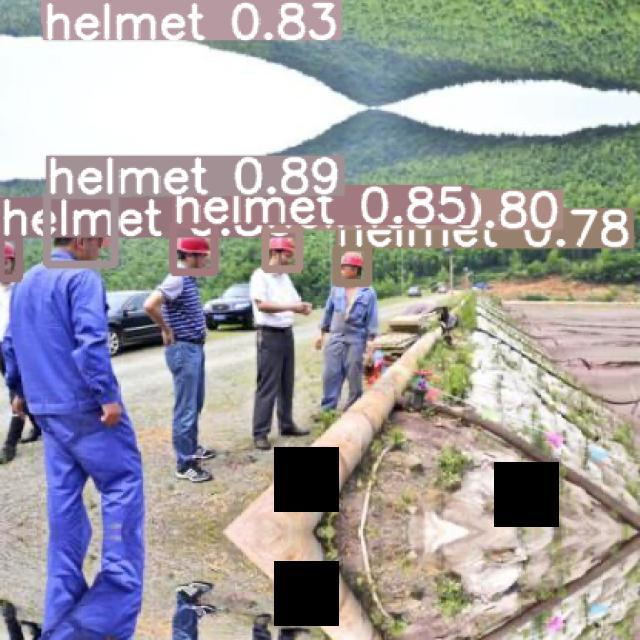red helmet: (174, 229, 224, 271), (266, 229, 304, 271), (334, 254, 374, 284), (1, 228, 23, 281)
